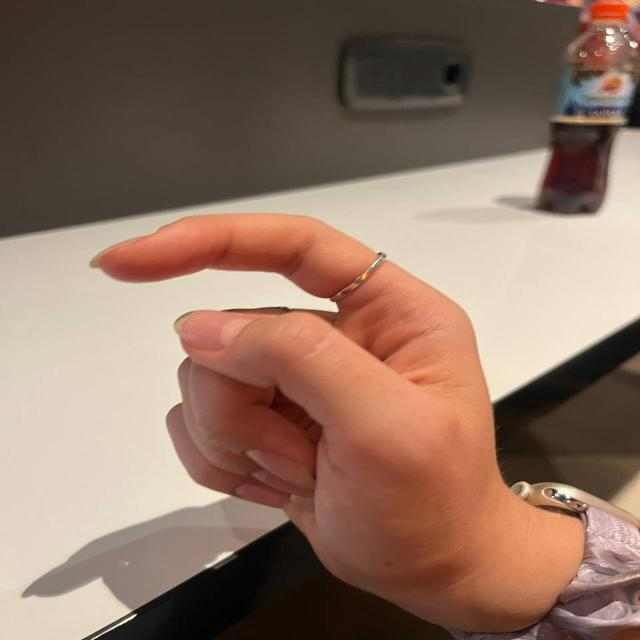kh: (69, 173, 527, 537)
